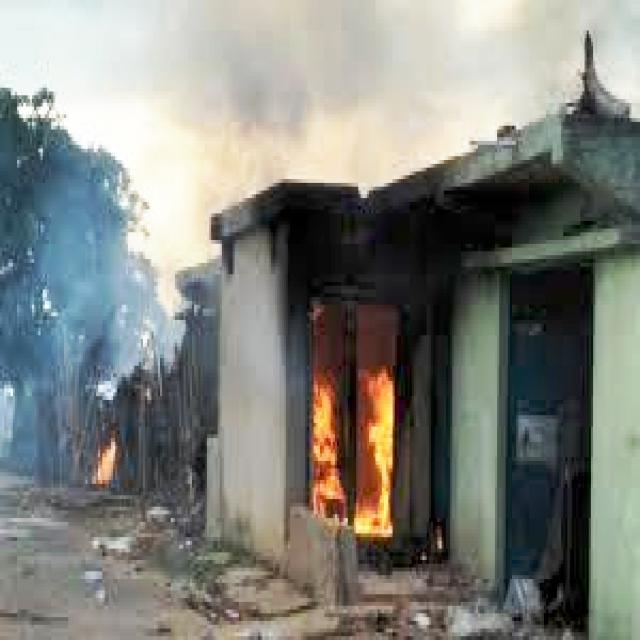api: (291, 317, 415, 542), (78, 435, 123, 485)
